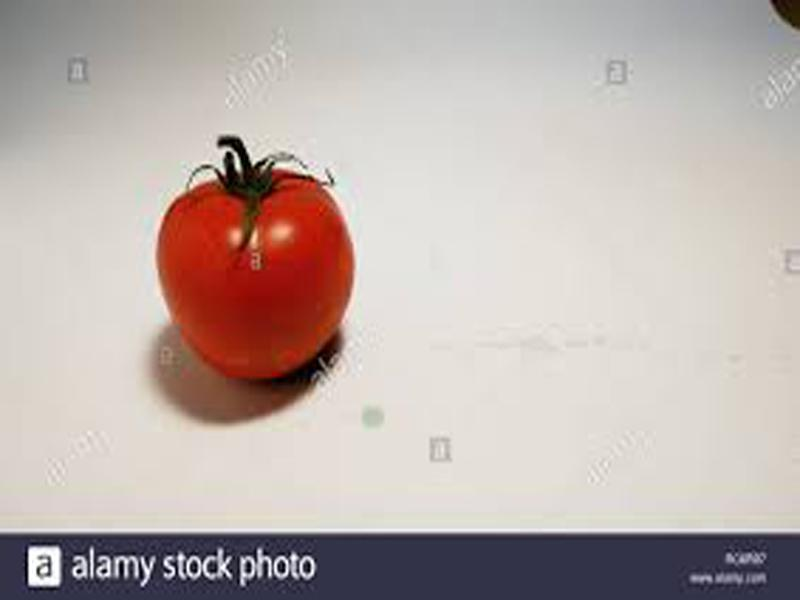Tomato: (158, 172, 353, 381)
